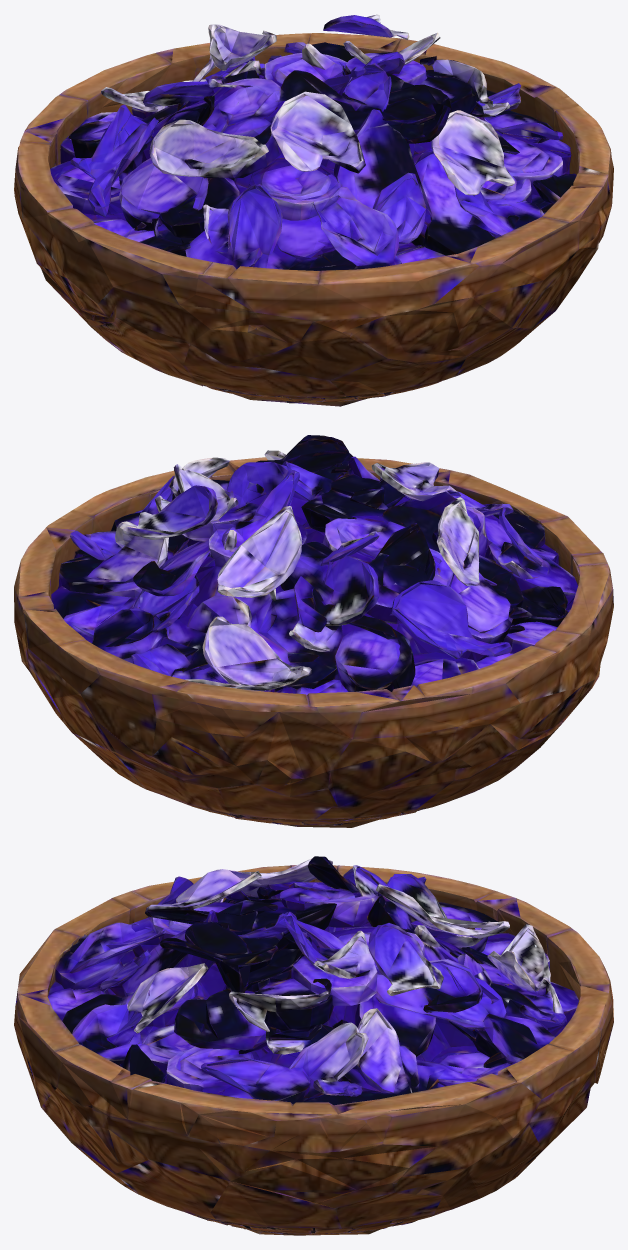
Rendered from dress-petal-bowl.glb.
The picture shows the model from 3 angles, top to bottom: view 1: azimuth 30°, elevation 25°; view 2: azimuth 150°, elevation 25°; view 3: azimuth 270°, elevation 25°; orthographic projection.
Bounding box in the file's own units: 0.994 × 0.5566 × 0.9995.
1 material, 1 textured.
